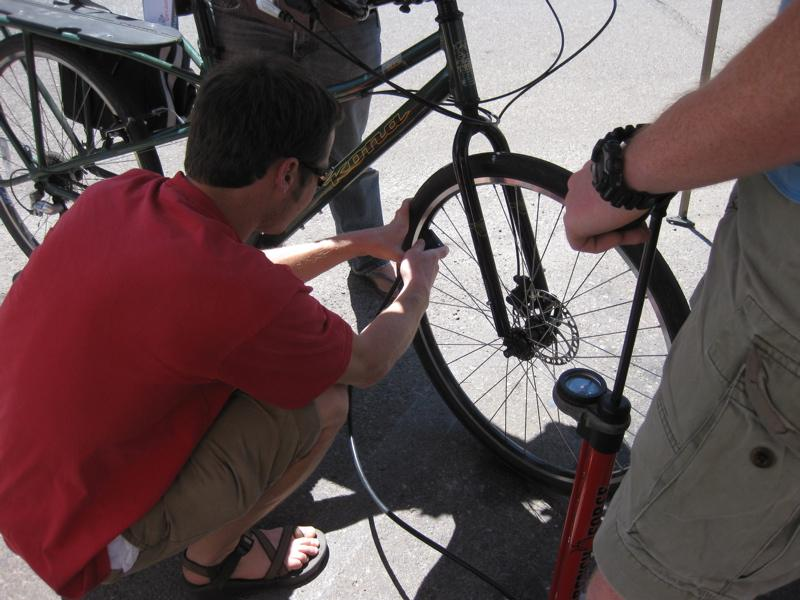person: (1, 51, 448, 600)
